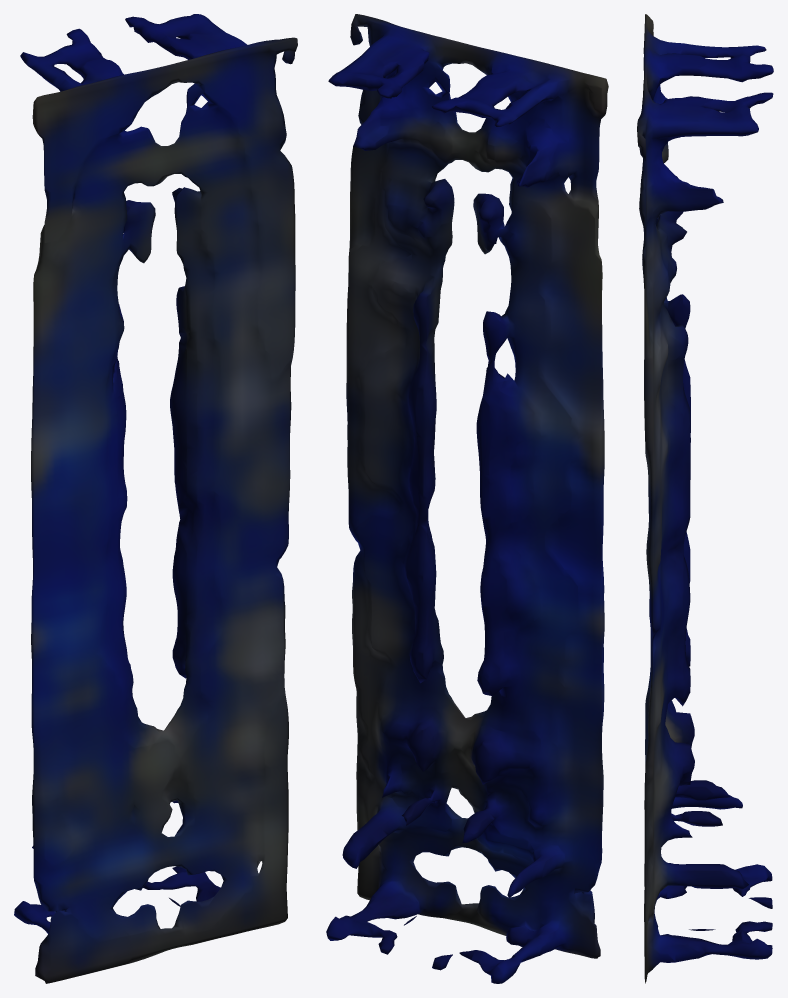
3 views of the same model, side by side, from view 1: azimuth 30°, elevation 25°; view 2: azimuth 150°, elevation 25°; view 3: azimuth 270°, elevation 25° (orthographic). The views are drawn at different scales.
Parts seen in each view (by area): view 1: plyFile; view 2: plyFile; view 3: plyFile.
Boxes of the visible parts, left/top/right/bottom form: plyFile: left=14, top=14, right=297, bottom=983; plyFile: left=326, top=14, right=608, bottom=983; plyFile: left=637, top=14, right=773, bottom=983.
Bounding box in the file's own units: 60.53 × 197 × 28.5.
